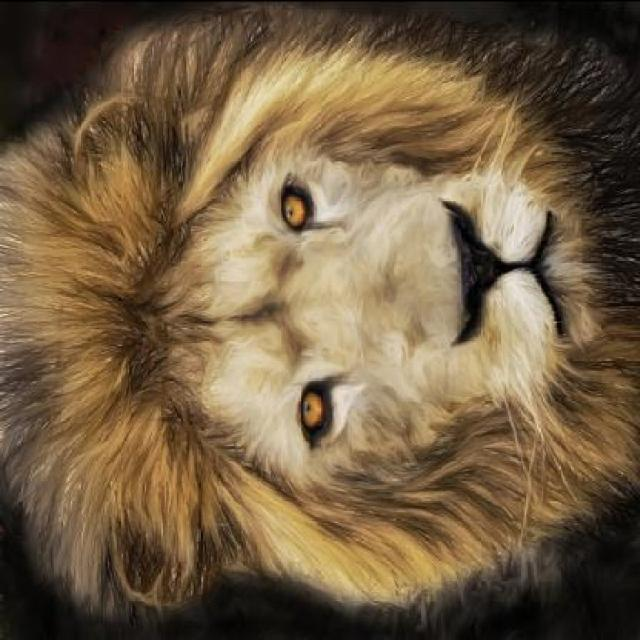Lion: (16, 2, 638, 626)
